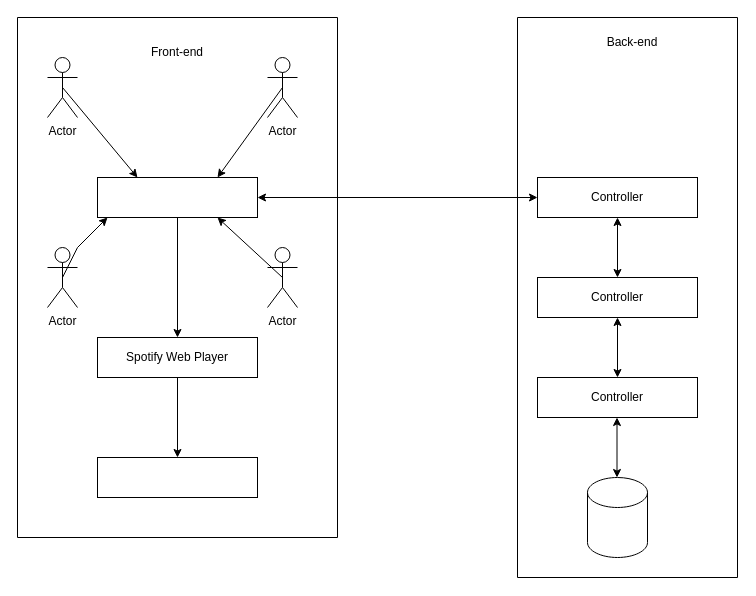
Some shapes in this 756 by 596 pixel diagram are drawn without their labels. Each missing label, with the box of its shape:
Client App.: (96, 176, 258, 218)
Spotify: (96, 456, 258, 498)
SQLite Database: (586, 476, 648, 558)
